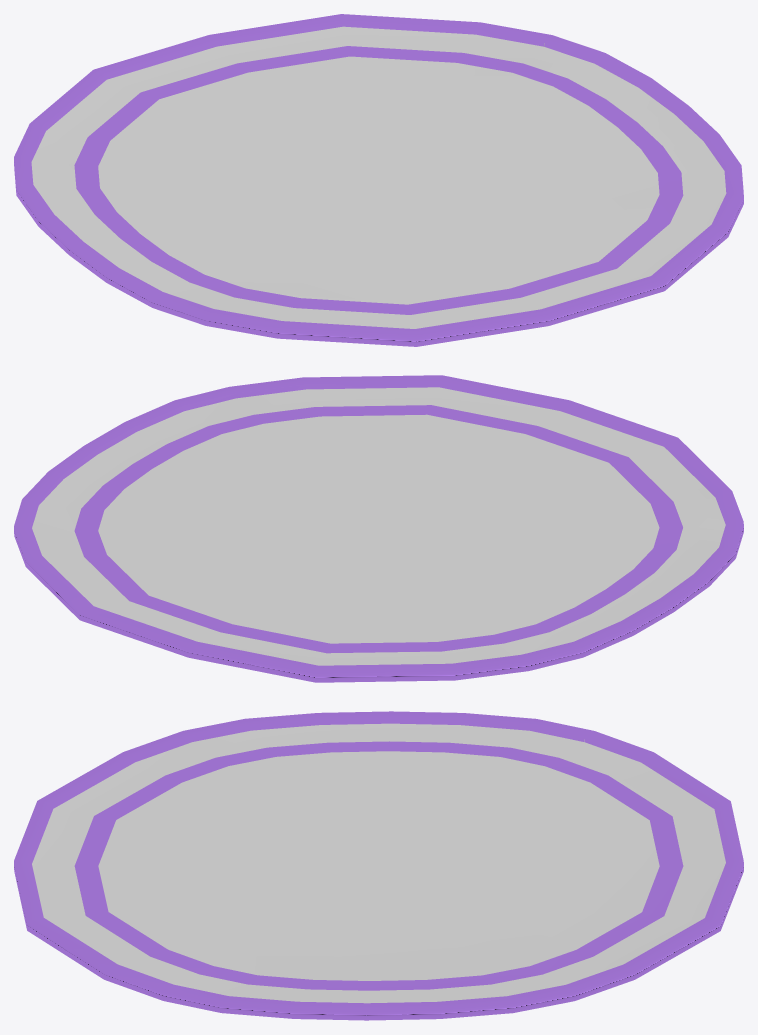
Rendered from rzug.fbx.
3 renders of one model, top to bottom at view 1: azimuth 30°, elevation 25°; view 2: azimuth 150°, elevation 25°; view 3: azimuth 270°, elevation 25°, orthographic.
Parts seen in each view (by area): view 1: Cube.3143; view 2: Cube.3143; view 3: Cube.3143.
Boxes of the visible parts, x1,y1,x2,y2 form: Cube.3143: (14,14,743,346); Cube.3143: (14,375,743,682); Cube.3143: (14,711,743,1020).
Size of the model in its own units: 349 by 360 by 12.64.
